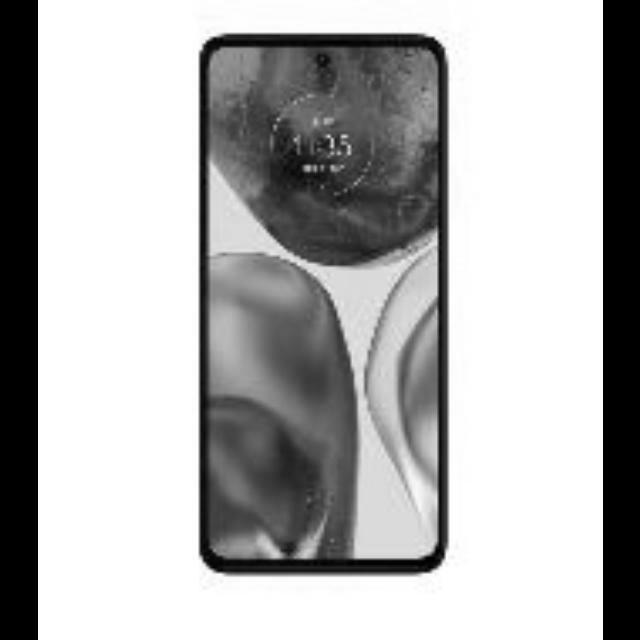fake: (192, 28, 454, 582)
